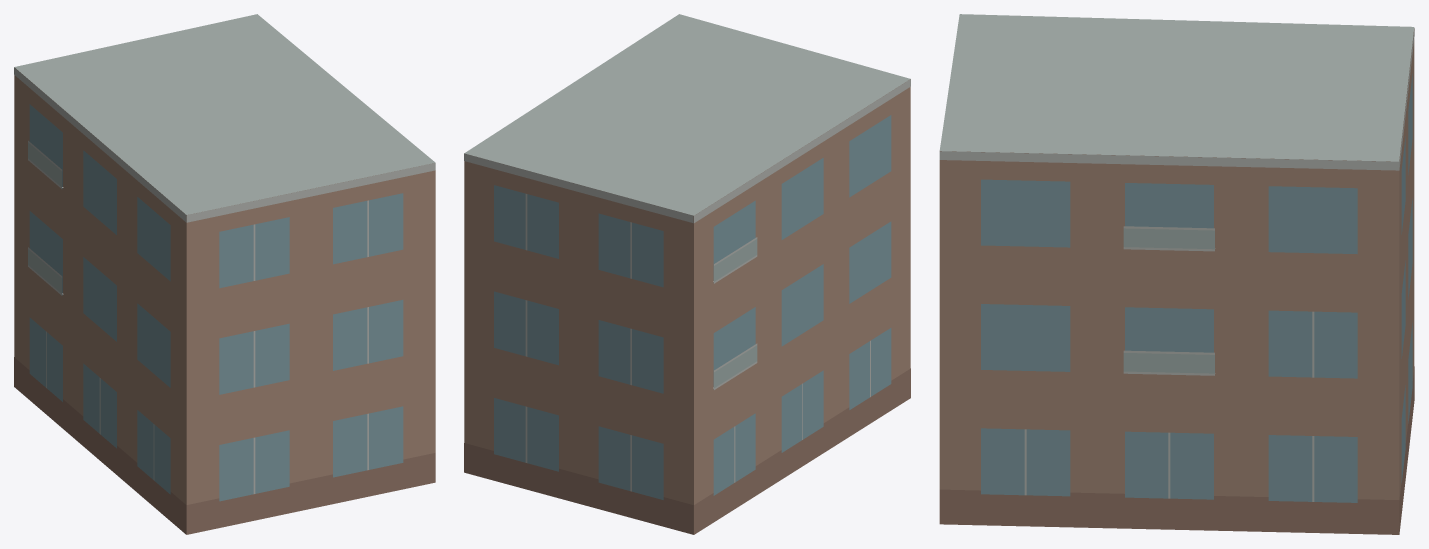
File: survey-upis-32809056.glb
3 views of the same model, side by side, from view 1: azimuth 30°, elevation 25°; view 2: azimuth 150°, elevation 25°; view 3: azimuth 270°, elevation 25° (orthographic). The views are drawn at different scales.
Parts seen in each view (by area): view 1: survey-upis-32809056.tmp; view 2: survey-upis-32809056.tmp; view 3: survey-upis-32809056.tmp.
Boxes of the visible parts, x1,y1,x2,y2 form: survey-upis-32809056.tmp: (14,14,435,534); survey-upis-32809056.tmp: (464,14,910,534); survey-upis-32809056.tmp: (939,14,1414,534).
Size of the model in its own units: 8.66 by 10.2 by 11.77.
